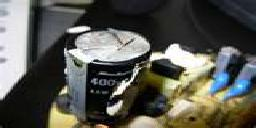Electrolytic Capacitor: (65, 22, 148, 128)
